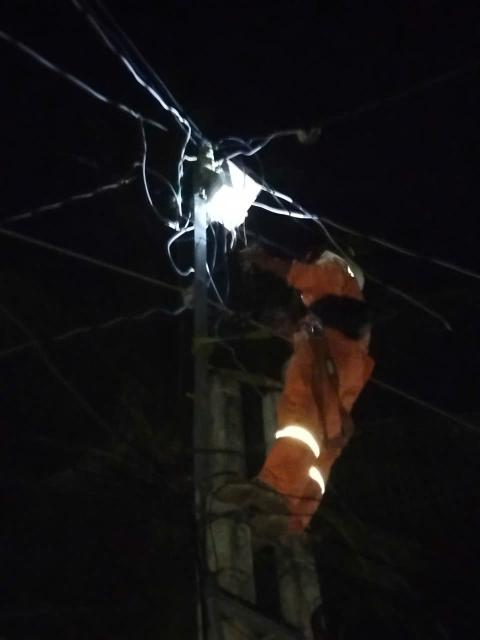gloves: (238, 232, 288, 281)
harness: (270, 295, 365, 340)
helmet: (317, 244, 381, 293)
